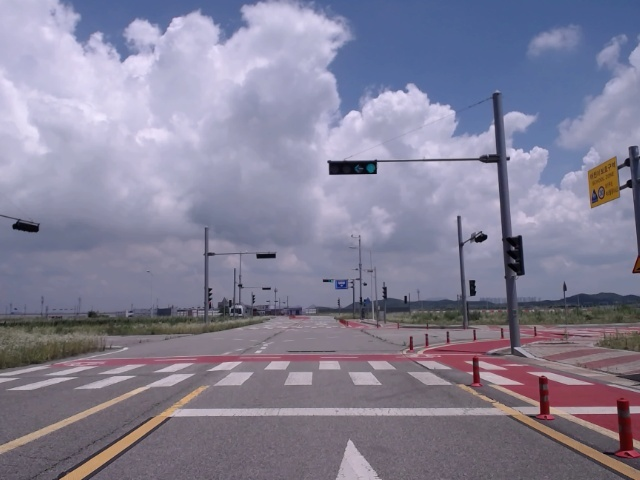all_green_4: (329, 158, 374, 177)
